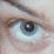eye: (21, 22, 37, 35)
